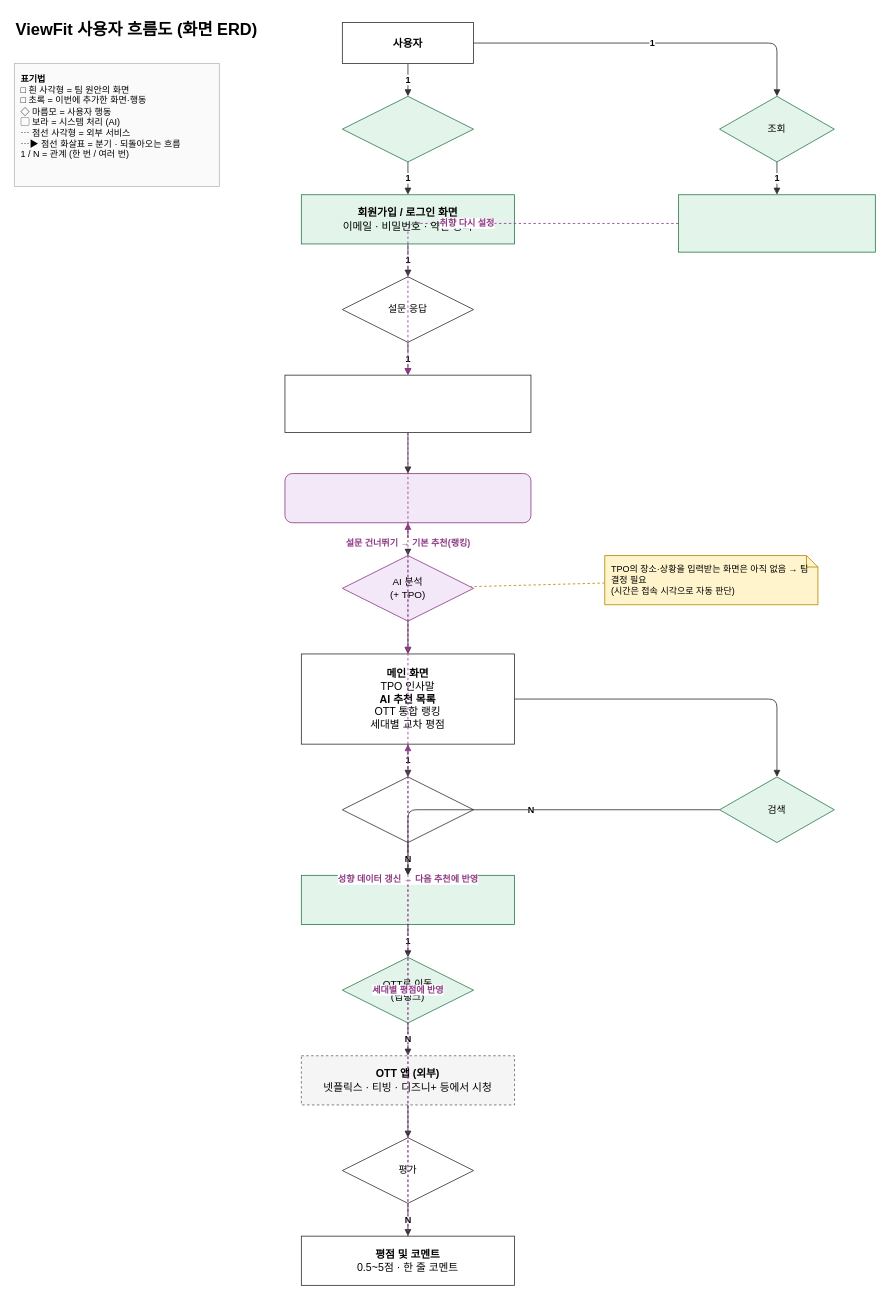
Some shapes in this 890 by 1300 pixel diagram are drawn without their labels. The shapes that lost their labels are listed below. From the top down, each one's box as (x1, y1, x2, y2) in pixels, then its label:
(342, 96, 474, 162): 가입 · 로그인
(678, 194, 875, 252): 내 프로필 화면 내 정보 · 취향 다시 설정 최근 평점 · 시청 이력
(284, 374, 531, 433): 설문 화면 STEP1 생활 정보 → STEP2 장르 취향 → STEP3 시청 이력
(284, 473, 531, 523): 사용자 성향 파악 연령대 · 직업 · 선호/비선호 장르 · 시청 이력
(342, 776, 474, 843): 작품 선택
(301, 875, 515, 925): 작품 상세 화면 줄거리 · 평점 · 볼 수 있는 OTT
